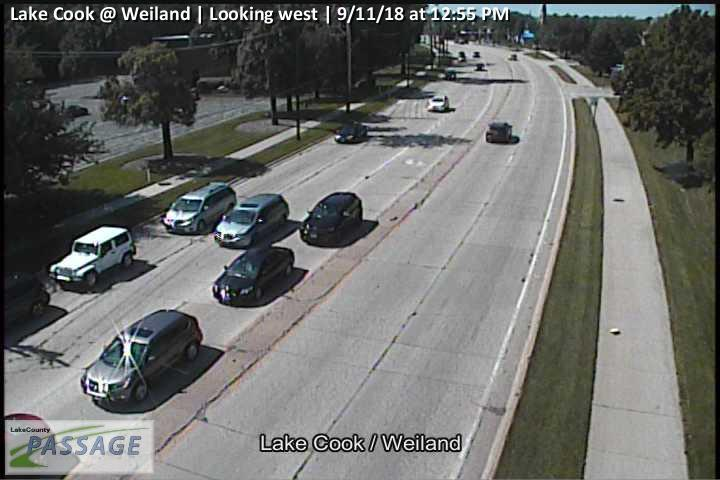SUV: (83, 308, 203, 404), (49, 226, 135, 287), (215, 193, 289, 250), (164, 181, 235, 234), (301, 192, 362, 246), (486, 122, 512, 144)
Sedan: (214, 247, 294, 305), (335, 122, 368, 145), (427, 95, 449, 112)
